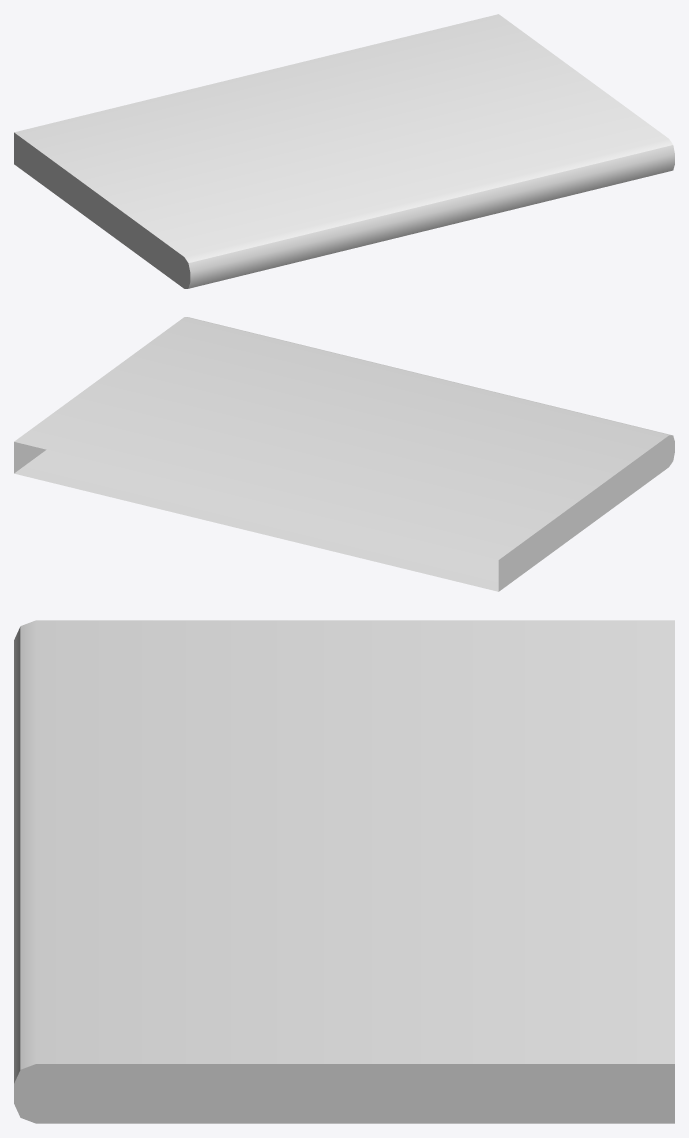
The model's file is Window sill.fbx.
3 views of the same model, one above another, from view 1: azimuth 30°, elevation 25°; view 2: azimuth 150°, elevation 25°; view 3: azimuth 270°, elevation 25° (orthographic). The views are drawn at different scales.
Visible parts, largest first — view 1: Window sill; view 2: Window sill; view 3: Window sill.
Part boxes in pixels (bbox=[...]): Window sill: bbox=[14, 14, 674, 288]; Window sill: bbox=[14, 317, 674, 591]; Window sill: bbox=[14, 620, 674, 1123].
Size of the model in its own units: 200 by 12.56 by 126.
